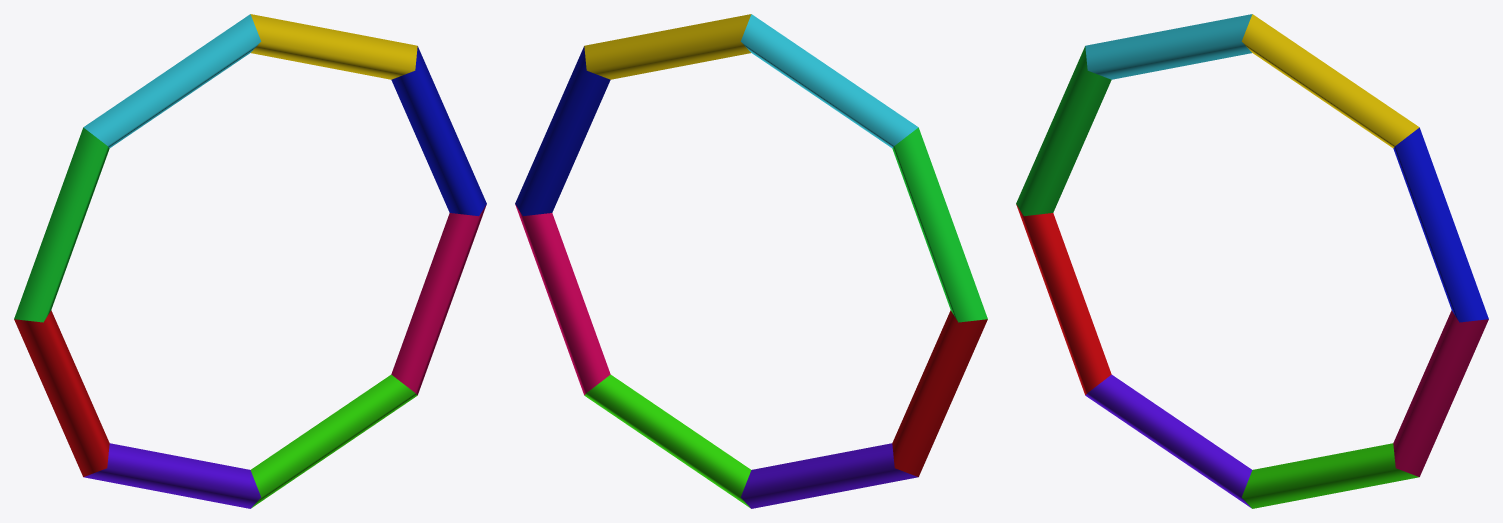
The model's file is BézierCircle.OBJ.
3 renders of one model, left to right at view 1: azimuth 30°, elevation 25°; view 2: azimuth 150°, elevation 25°; view 3: azimuth 330°, elevation 25°, orthographic.
Parts seen in each view (by area): view 1: BézierCircle; view 2: BézierCircle; view 3: BézierCircle.
Part boxes in pixels (x1,y1,x2,y2): BézierCircle: (14, 14, 486, 508); BézierCircle: (515, 14, 987, 508); BézierCircle: (1016, 14, 1488, 508).
Size of the model in its own units: 0.0164 by 0.0164 by 0.0013.
